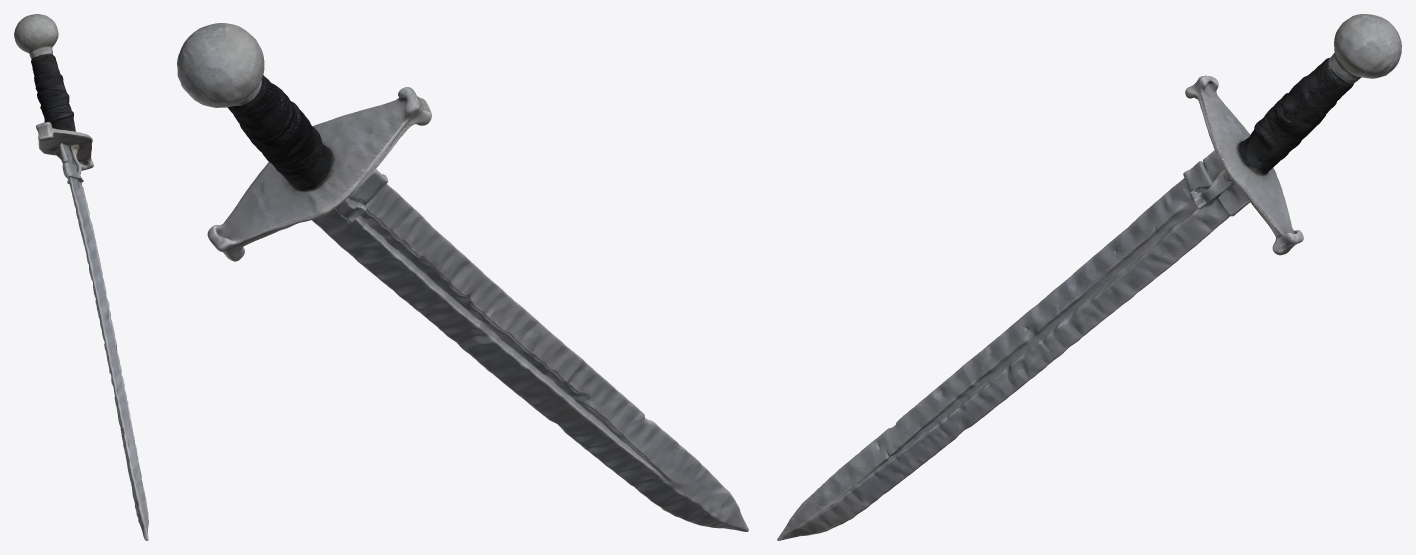
3 views of the same model, side by side, from view 1: azimuth 30°, elevation 25°; view 2: azimuth 150°, elevation 25°; view 3: azimuth 270°, elevation 25° (orthographic). The views are drawn at different scales.
Parts seen in each view (by area): view 1: tripo_node_c72d1563-e3e2-4842-89d3-547651fb5e5a; view 2: tripo_node_c72d1563-e3e2-4842-89d3-547651fb5e5a; view 3: tripo_node_c72d1563-e3e2-4842-89d3-547651fb5e5a.
Boxes of the visible parts, box(x1,y1,x2,y2) form: tripo_node_c72d1563-e3e2-4842-89d3-547651fb5e5a: box(14, 14, 148, 540); tripo_node_c72d1563-e3e2-4842-89d3-547651fb5e5a: box(177, 23, 748, 531); tripo_node_c72d1563-e3e2-4842-89d3-547651fb5e5a: box(777, 14, 1401, 540).
Size of the model in its own units: 0.3058 by 1 by 0.9718.
1 material, 1 textured.
